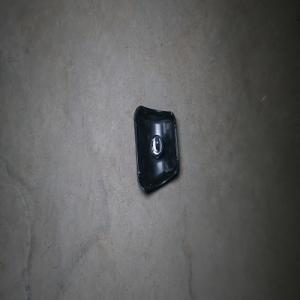LuggagePart: (132, 104, 180, 194)
